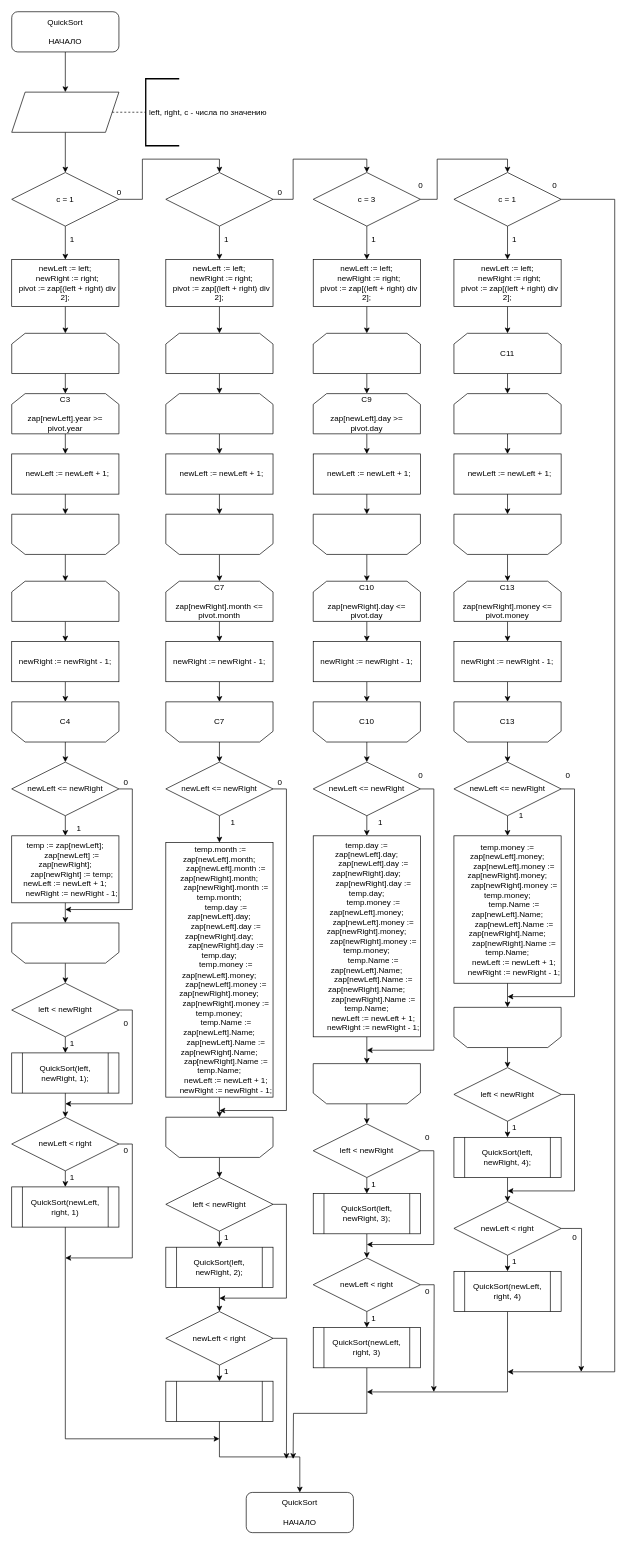
The diagram is 632 pixels wide and 1544 high, and some of its shapes have lost their labels. The centre of each missing label's shape, as x and y in pixels:
"c = 2" goes at point 219,199.
"C11 newLeft = newRight" goes at point 507,1027.
"C12" goes at point 507,534.
"C12 zap[newLeft].money >= pivot.money" goes at point 507,413.
"C2" goes at point 65,353.
"C2 newLeft = newRight" goes at point 65,942.
"C3" goes at point 65,534.
"C4 zap[newRight].year <= pivot.year" goes at point 65,601.
"C5" goes at point 219,353.
"C5 newLeft = newRight" goes at point 219,1137.
"C6" goes at point 219,534.
"C6 zap[newLeft].month >= pivot.month" goes at point 219,413.
"C8" goes at point 366,353.
"C8 newLeft = newRight" goes at point 366,1083.
"C9" goes at point 366,534.
"left, right, c" goes at point 65,111.
"QuickSort(newLeft, right, 2)" goes at point 219,1401.
